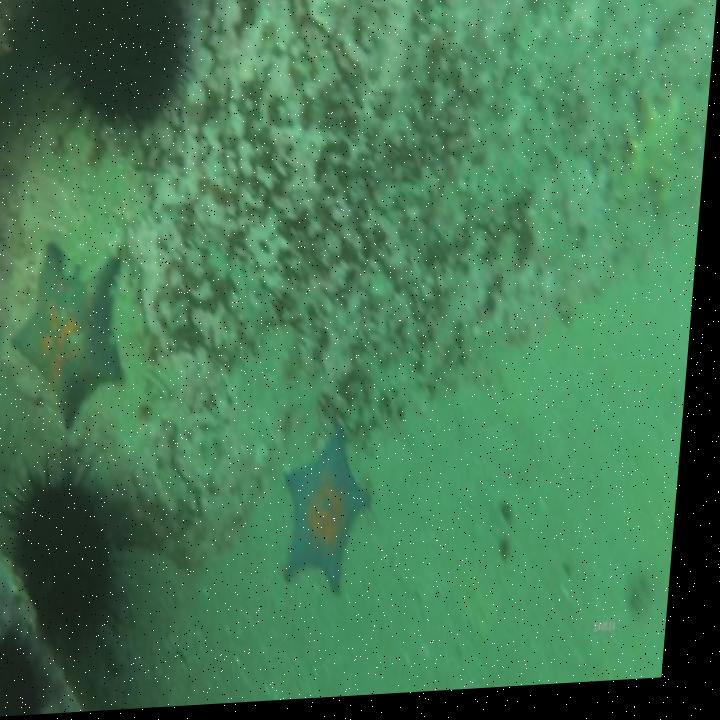echinus: (0, 451, 140, 645), (50, 0, 201, 157), (0, 621, 58, 718)
holothurian: (624, 95, 698, 215)
starfish: (15, 231, 141, 427), (282, 416, 385, 604)
